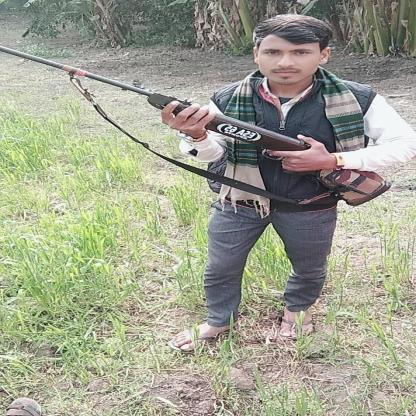rifle: (0, 45, 395, 209)
